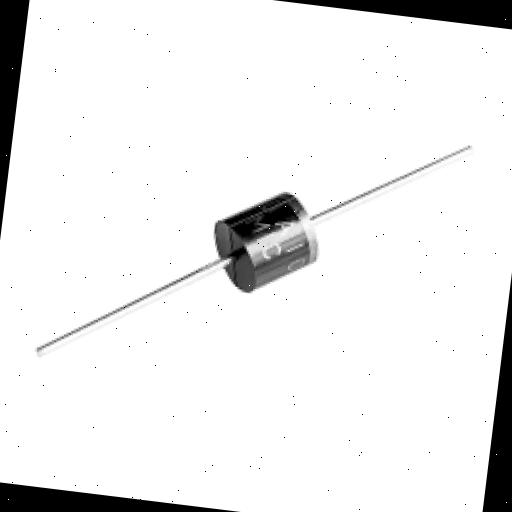DIODE: (176, 154, 393, 344)
